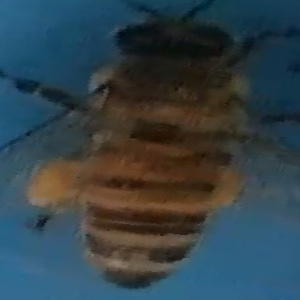bee: (20, 6, 267, 293)
